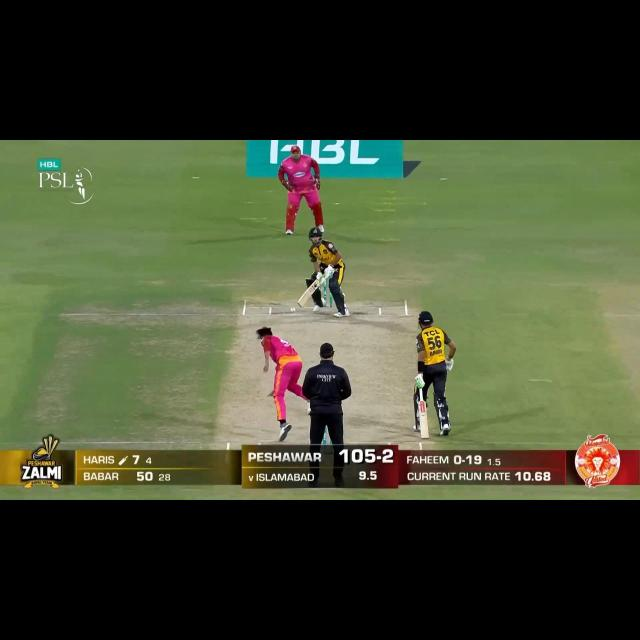bat: (296, 279, 323, 309), (415, 401, 430, 442)
toe: (420, 434, 431, 442), (297, 299, 303, 308)
